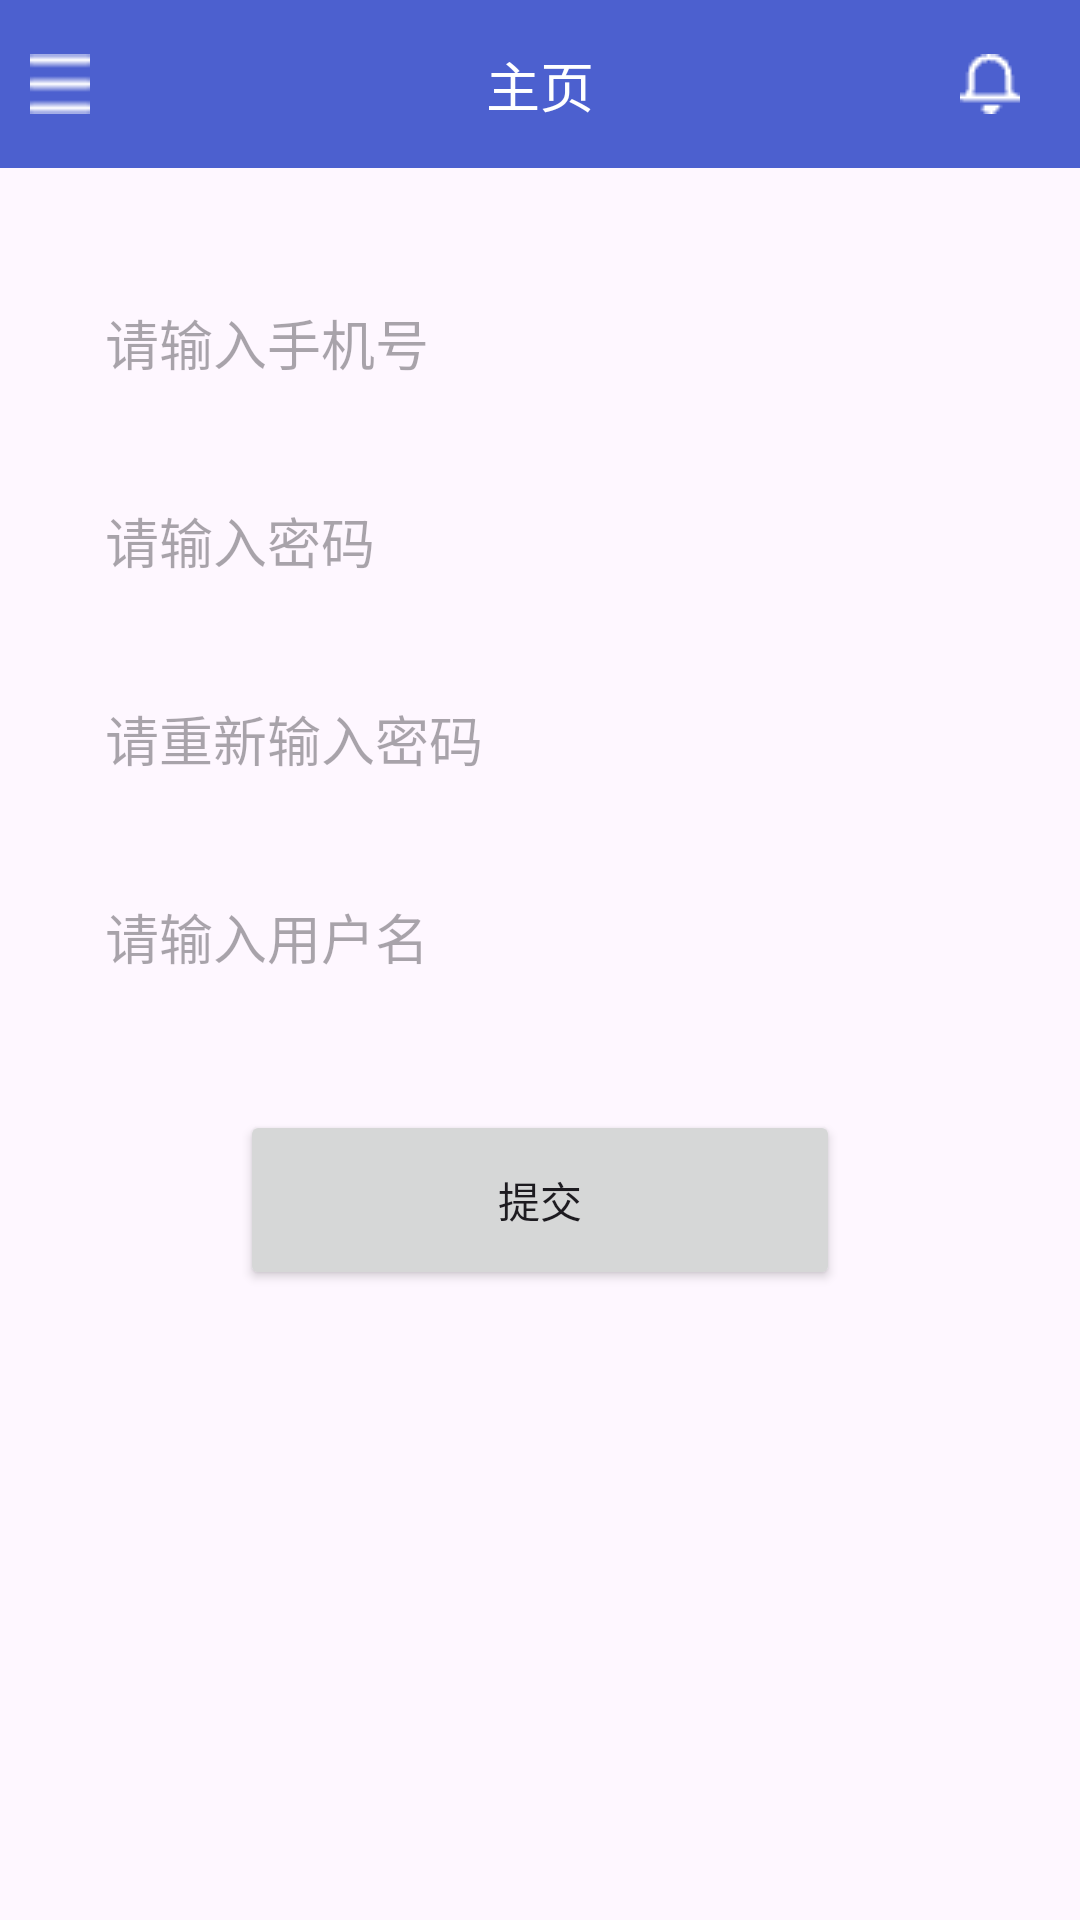

Where icons sit on this 1080px x 1920px app screen, as (left=x1, top=y1, right=x2, bottom=y2):
menu: (left=30, top=54, right=90, bottom=114)
message pic: (left=960, top=54, right=1020, bottom=114)
